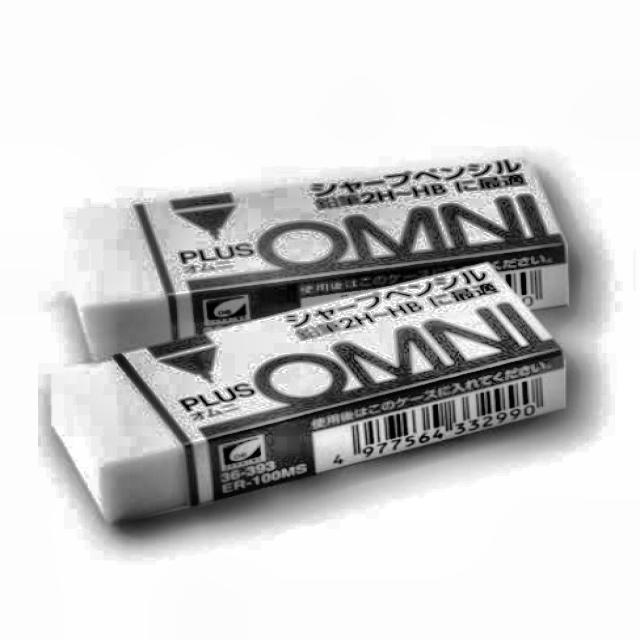eraser: (44, 150, 579, 531)
